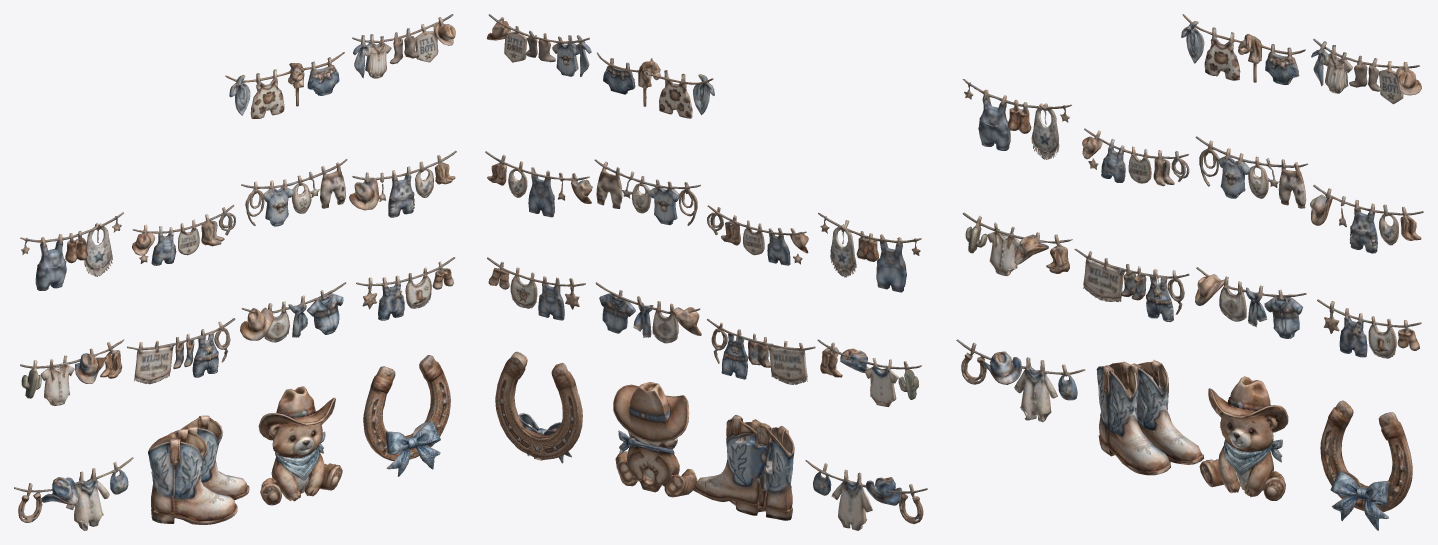
The picture shows the model from 3 angles, left to right: view 1: azimuth 30°, elevation 25°; view 2: azimuth 150°, elevation 25°; view 3: azimuth 330°, elevation 25°; orthographic projection. The views are drawn at different scales.
Parts seen in each view (by area): view 1: Mesh 8, Mesh 13, Mesh 17, Mesh 3, Mesh 1, Mesh 5, Mesh 12, Mesh 10, Mesh 15, Mesh 11, Mesh 2, Mesh 19 (+2 smaller); view 2: Mesh 13, Mesh 8, Mesh 17, Mesh 5, Mesh 1, Mesh 3, Mesh 10, Mesh 12, Mesh 11, Mesh 15, Mesh 2, Mesh 19 (+2 smaller); view 3: Mesh 8, Mesh 13, Mesh 17, Mesh 1, Mesh 5, Mesh 10, Mesh 3, Mesh 15, Mesh 12, Mesh 11, Mesh 2, Mesh 19 (+2 smaller).
Part boxes in pixels (bbox=[...]): Mesh 8: bbox=[148, 415, 249, 524]; Mesh 13: bbox=[258, 386, 342, 505]; Mesh 17: bbox=[363, 355, 450, 476]; Mesh 3: bbox=[20, 212, 123, 290]; Mesh 1: bbox=[14, 457, 133, 530]; Mesh 5: bbox=[127, 318, 235, 384]; Mesh 12: bbox=[240, 282, 346, 342]; Mesh 10: bbox=[225, 52, 344, 118]; Mesh 15: bbox=[352, 14, 455, 78]; Mesh 11: bbox=[241, 159, 347, 226]; Mesh 2: bbox=[20, 339, 124, 405]; Mesh 19: bbox=[349, 150, 456, 217]; Mesh 13: bbox=[613, 382, 697, 497]; Mesh 8: bbox=[693, 415, 794, 520]; Mesh 17: bbox=[495, 351, 582, 463]; Mesh 5: bbox=[707, 318, 815, 384]; Mesh 1: bbox=[805, 460, 927, 530]; Mesh 3: bbox=[818, 212, 921, 292]; Mesh 10: bbox=[597, 52, 714, 118]; Mesh 12: bbox=[596, 282, 701, 343]; Mesh 11: bbox=[594, 159, 700, 225]; Mesh 15: bbox=[486, 14, 591, 76]; Mesh 2: bbox=[817, 339, 921, 406]; Mesh 19: bbox=[485, 151, 592, 217]; Mesh 8: bbox=[1096, 359, 1203, 475]; Mesh 13: bbox=[1199, 376, 1288, 500]; Mesh 17: bbox=[1320, 400, 1412, 530]; Mesh 1: bbox=[956, 339, 1085, 422]; Mesh 5: bbox=[1074, 248, 1189, 321]; Mesh 10: bbox=[1181, 14, 1305, 84]; Mesh 3: bbox=[962, 79, 1071, 159]; Mesh 15: bbox=[1311, 38, 1421, 104]; Mesh 12: bbox=[1195, 267, 1306, 338]; Mesh 11: bbox=[1195, 136, 1307, 208]; Mesh 2: bbox=[962, 212, 1072, 276]; Mesh 19: bbox=[1310, 184, 1423, 253].
Bounding box in the file's own units: 1.89 × 1.81 × 0.1731.
Materials: 14 (14 with a texture image).
